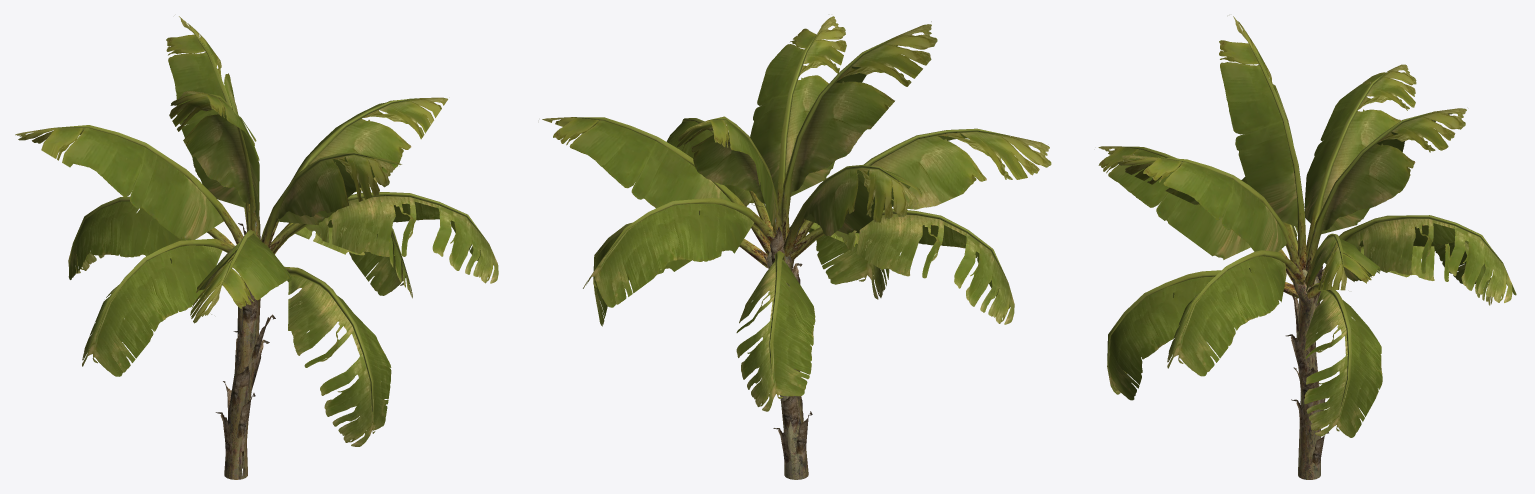
The model's file is banana.glb.
3 renders of one model, left to right at view 1: azimuth 30°, elevation 25°; view 2: azimuth 150°, elevation 25°; view 3: azimuth 270°, elevation 25°, orthographic. The views are drawn at different scales.
Visible parts, largest first — view 1: Tree_1, Tree_2, Tree_4, Tree_0, Tree_3; view 2: Tree_1, Tree_2, Tree_4, Tree_3, Tree_0; view 3: Tree_1, Tree_2, Tree_4, Tree_0, Tree_3.
Part boxes in pixels (box(x1,y1,x2,y2)): Tree_1: box(15, 16, 447, 323); Tree_2: box(68, 116, 498, 446); Tree_4: box(54, 32, 487, 414); Tree_0: box(224, 281, 260, 479); Tree_3: box(215, 223, 275, 468); Tree_1: box(542, 16, 1051, 236); Tree_2: box(583, 121, 1014, 411); Tree_4: box(572, 33, 1011, 376); Tree_3: box(756, 227, 812, 468); Tree_0: box(767, 250, 808, 479); Tree_1: box(1098, 16, 1466, 291); Tree_2: box(1107, 177, 1516, 437); Tree_4: box(1107, 42, 1501, 407); Tree_0: box(1293, 269, 1320, 479); Tree_3: box(1285, 248, 1328, 470).
Bounding box in the file's own units: 2.89 × 2.89 × 2.74.
Materials: 5 (5 with a texture image).
